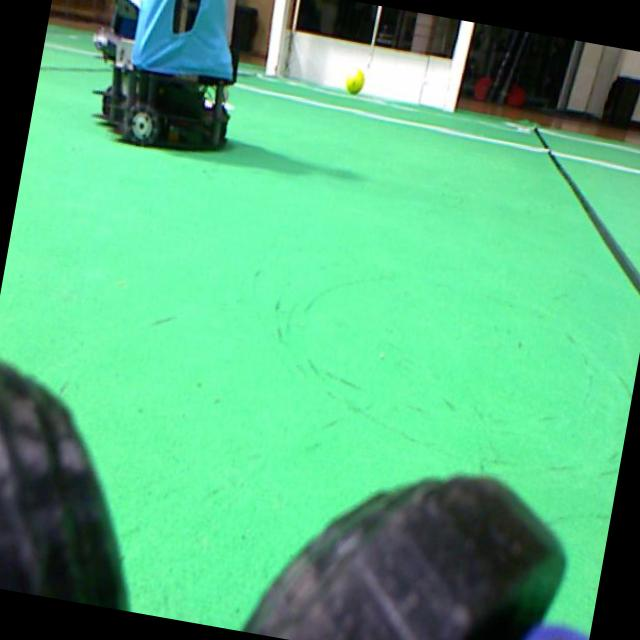ball: (345, 66, 365, 94)
goal: (443, 20, 473, 110), (264, 0, 286, 75)
